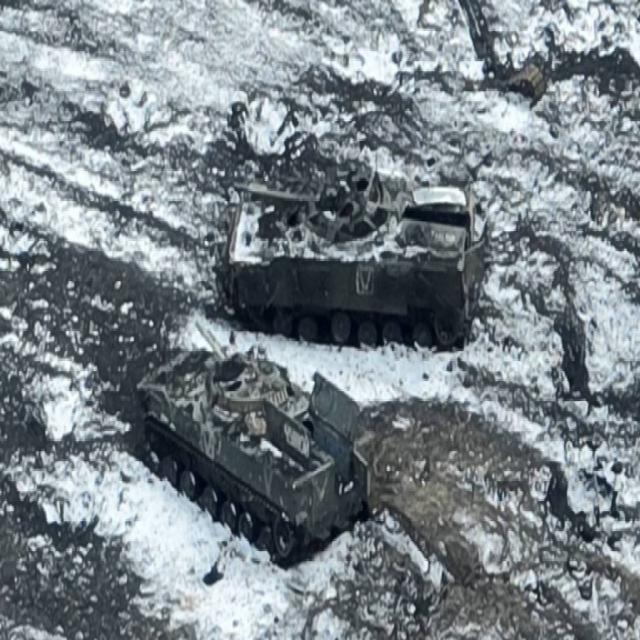APC-IFV: (132, 318, 372, 563), (219, 158, 478, 352)
